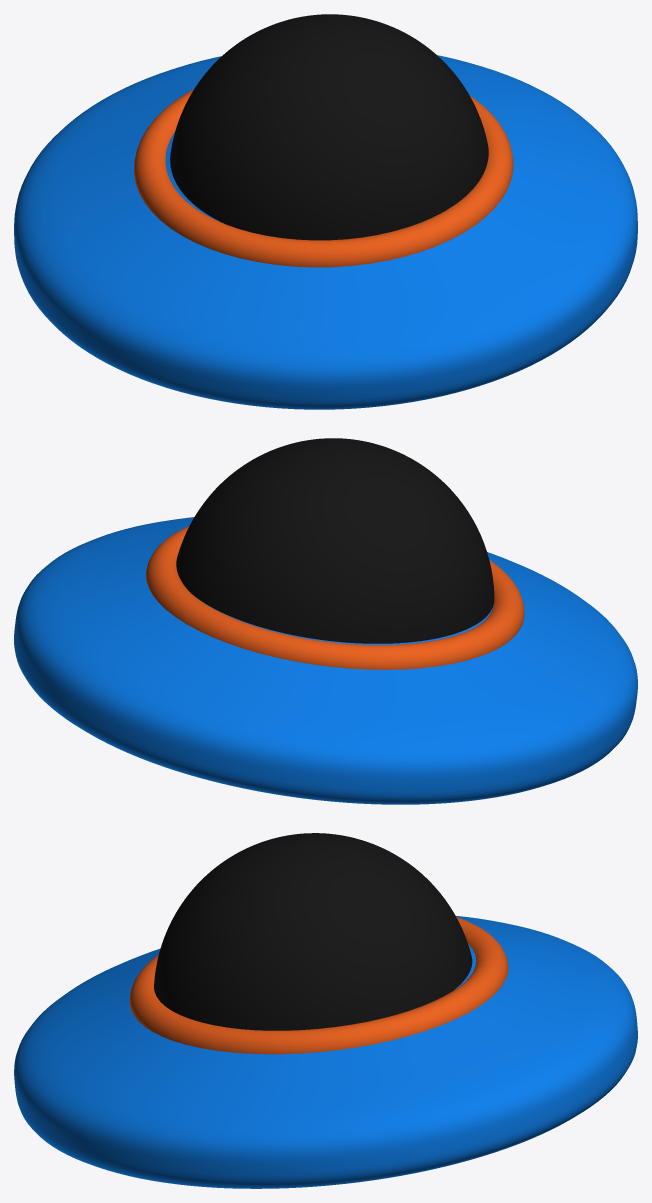
File: Ufo.glb
The picture shows the model from 3 angles, top to bottom: view 1: azimuth 30°, elevation 25°; view 2: azimuth 150°, elevation 25°; view 3: azimuth 270°, elevation 25°; orthographic projection.
Visible parts, largest first — view 1: Circle.030, Sphere.009, Circle.029; view 2: Circle.030, Sphere.009, Circle.029; view 3: Circle.030, Sphere.009, Circle.029.
Boxes of the visible parts, x1,y1,x2,y2 form: Circle.030: (14,55,637,409); Sphere.009: (170,14,488,240); Circle.029: (134,89,513,267); Circle.030: (14,517,637,804); Sphere.009: (176,438,494,643); Circle.029: (146,526,524,669); Circle.030: (14,916,637,1188); Sphere.009: (154,833,472,1030); Circle.029: (129,917,508,1054).
Bounding box in the file's own units: 2.29 × 1.14 × 2.29.
